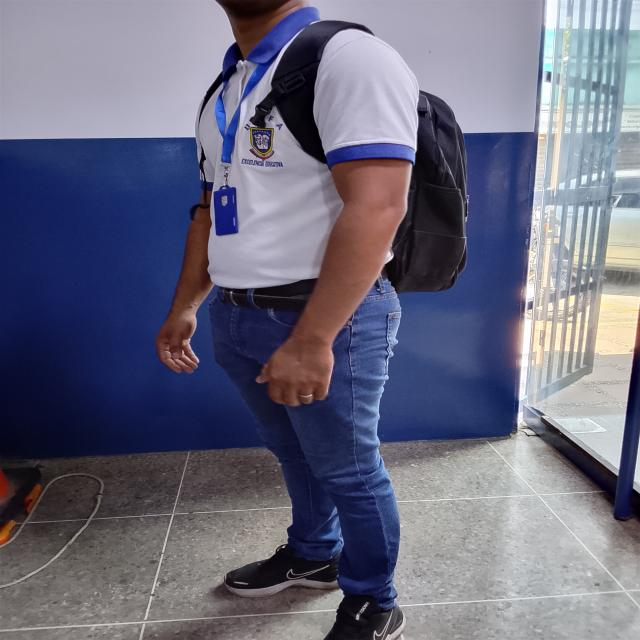carnet: (214, 187, 238, 236)
uniforme_superior: (194, 6, 420, 289)
